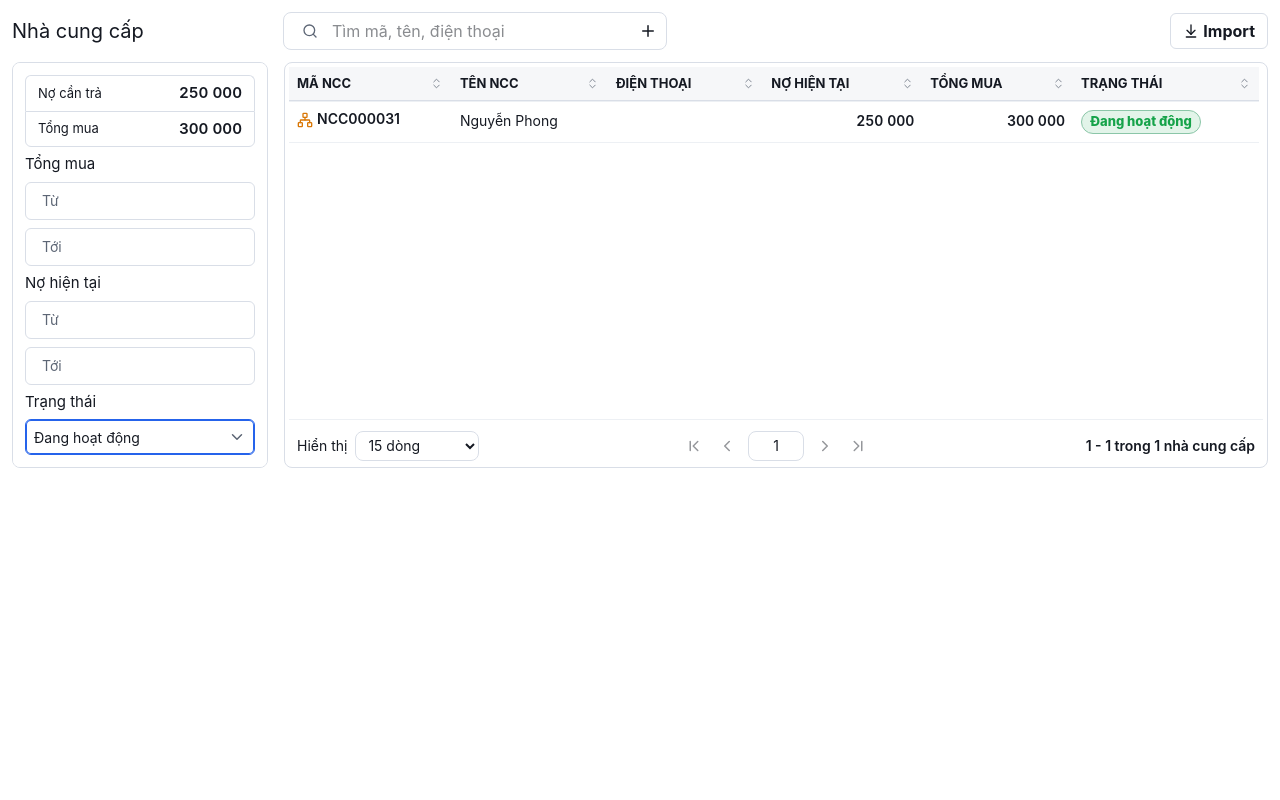
closes supplier detail when clicking the selected supplier row again
Click the button "NCC000031". click: (348,120)
box: x1=297 y1=110 x2=400 y2=129
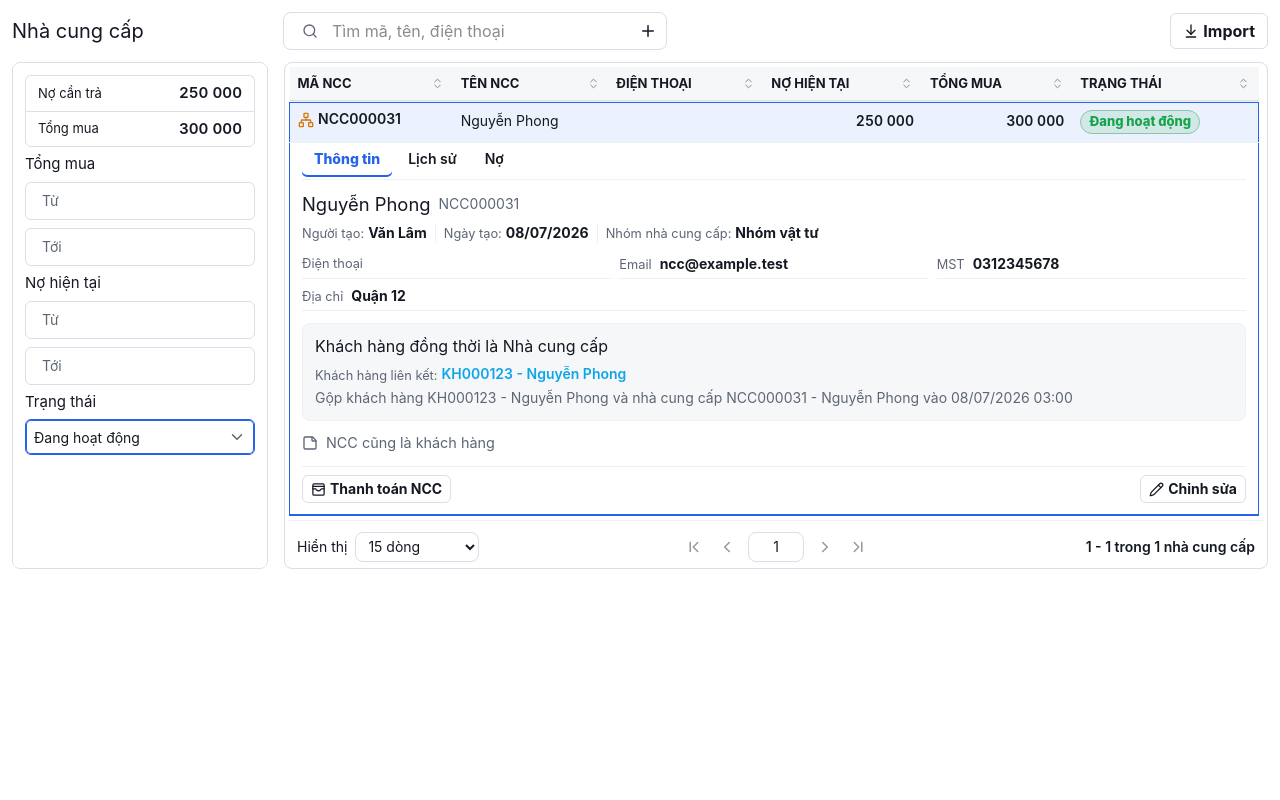
expect the text "NCC cũng là khách hàng" is shown: met, box x1=302 y1=434 x2=495 y2=451
Click the button "NCC000031". click: (350,120)
box: x1=298 y1=110 x2=401 y2=129
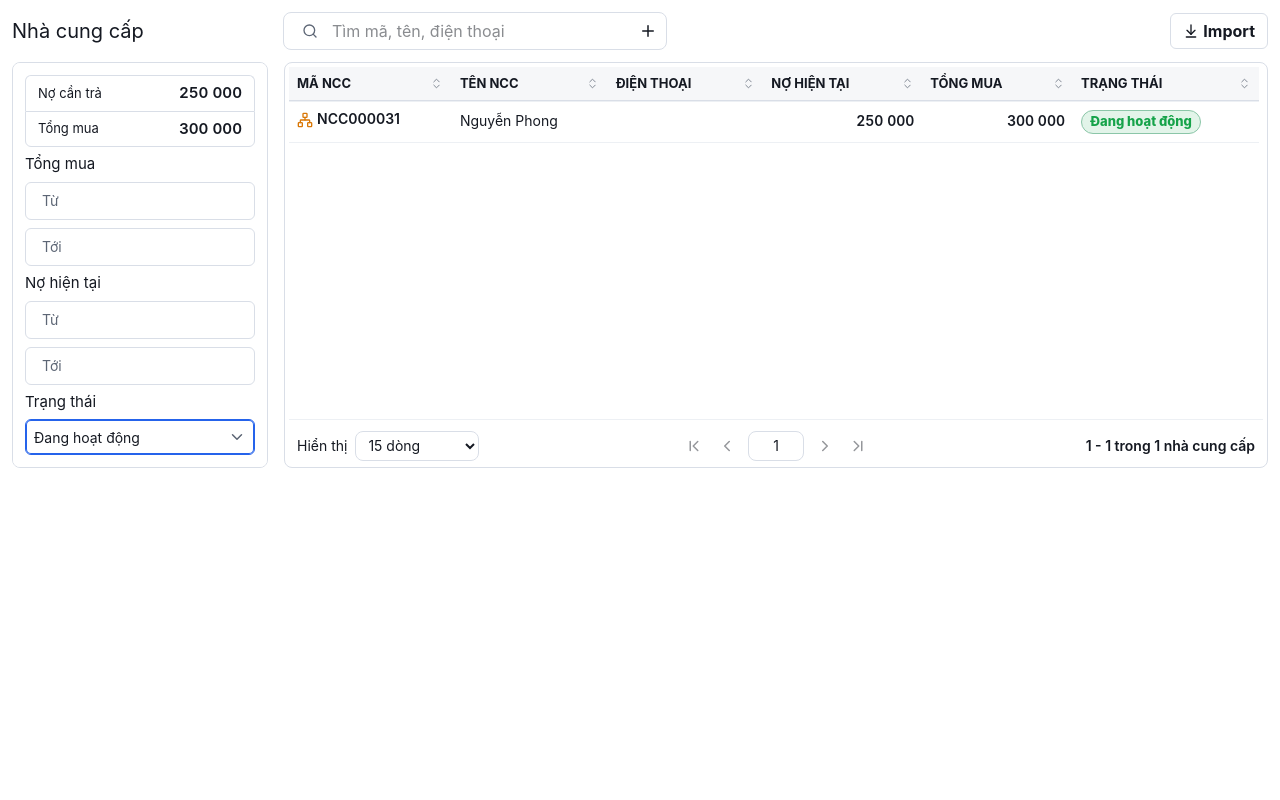
expect the text "NCC cũng là khách hàng" is gone: met
